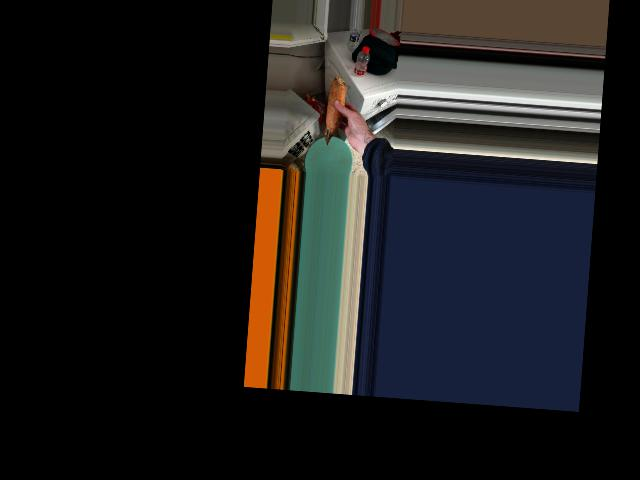sweet_potato: (324, 82, 351, 144)
